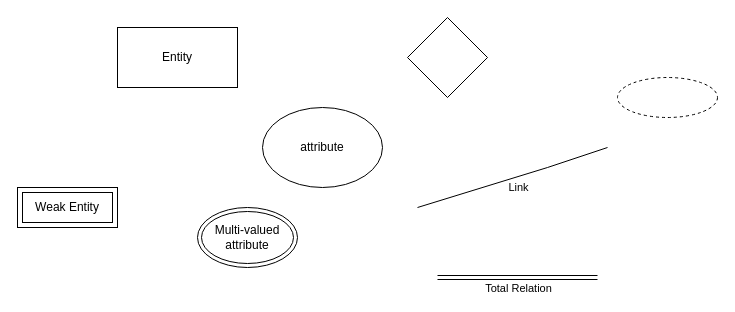
The diagram is 735 pixels wide and 312 high, and some of its shapes have lost their labels. Here are the shapes that lost their labels. From the top down, the centre of each, then its label:
(447,57): Relationship
(667,97): Derived attribute
